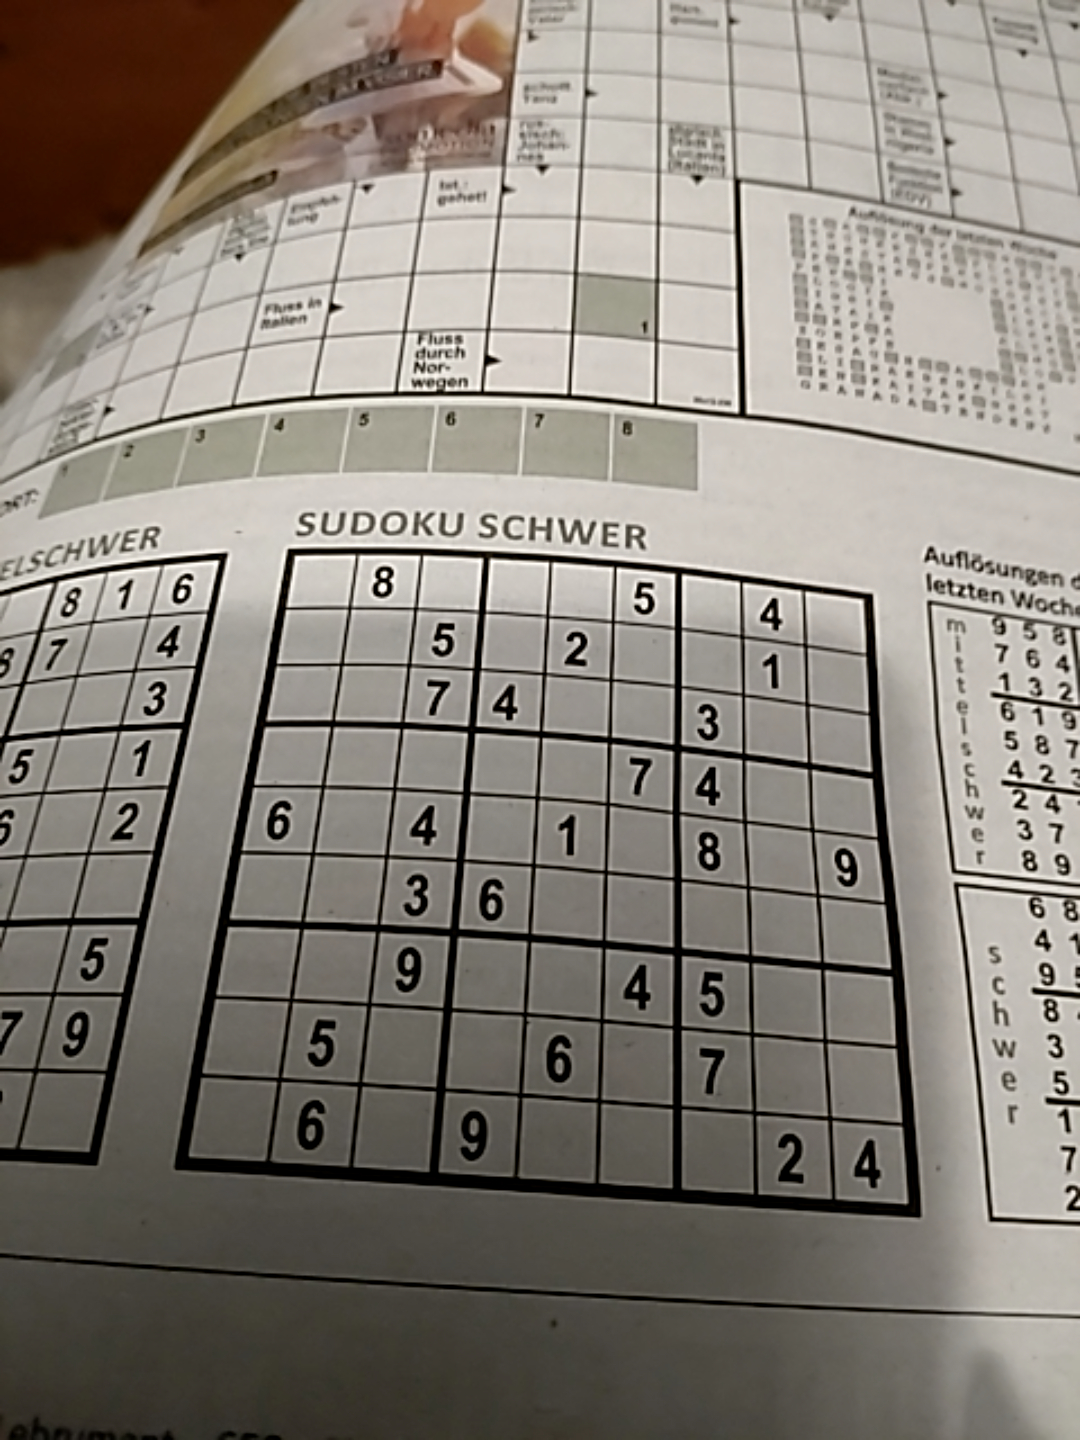sudoku: (181, 549, 921, 1220)
